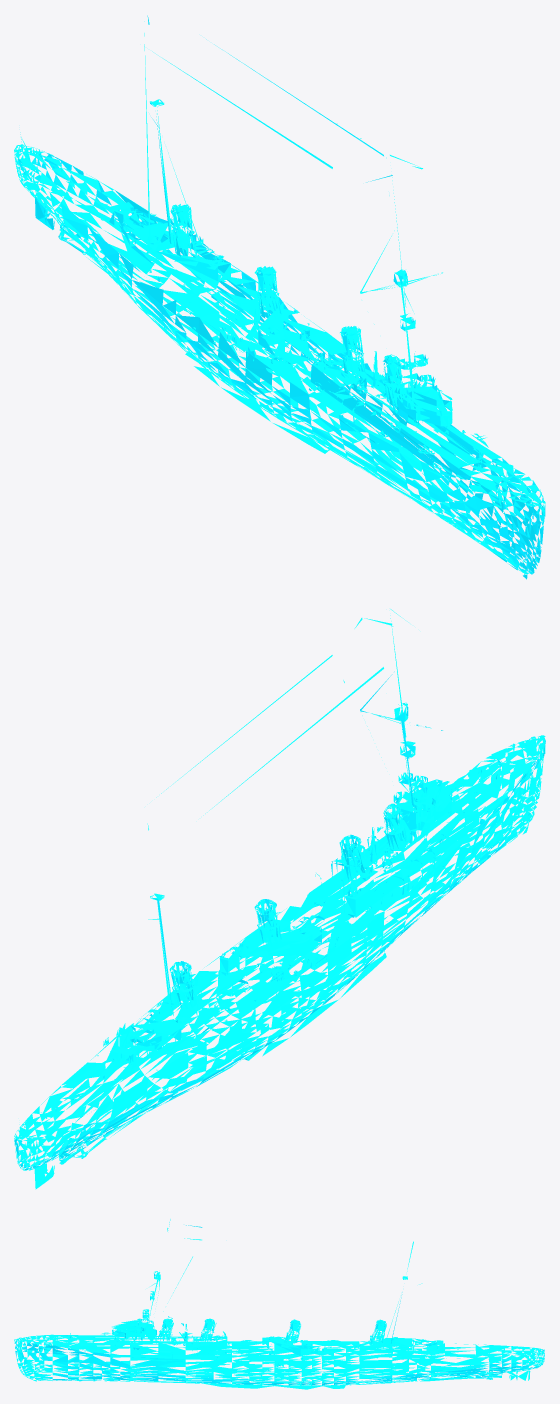
File: Nino_Bixio.glb
3 renders of one model, top to bottom at view 1: azimuth 30°, elevation 25°; view 2: azimuth 150°, elevation 25°; view 3: azimuth 270°, elevation 25°, orthographic. The views are drawn at different scales.
Bounding box in the file's own units: 0.919 × 3.18 × 9.37.
